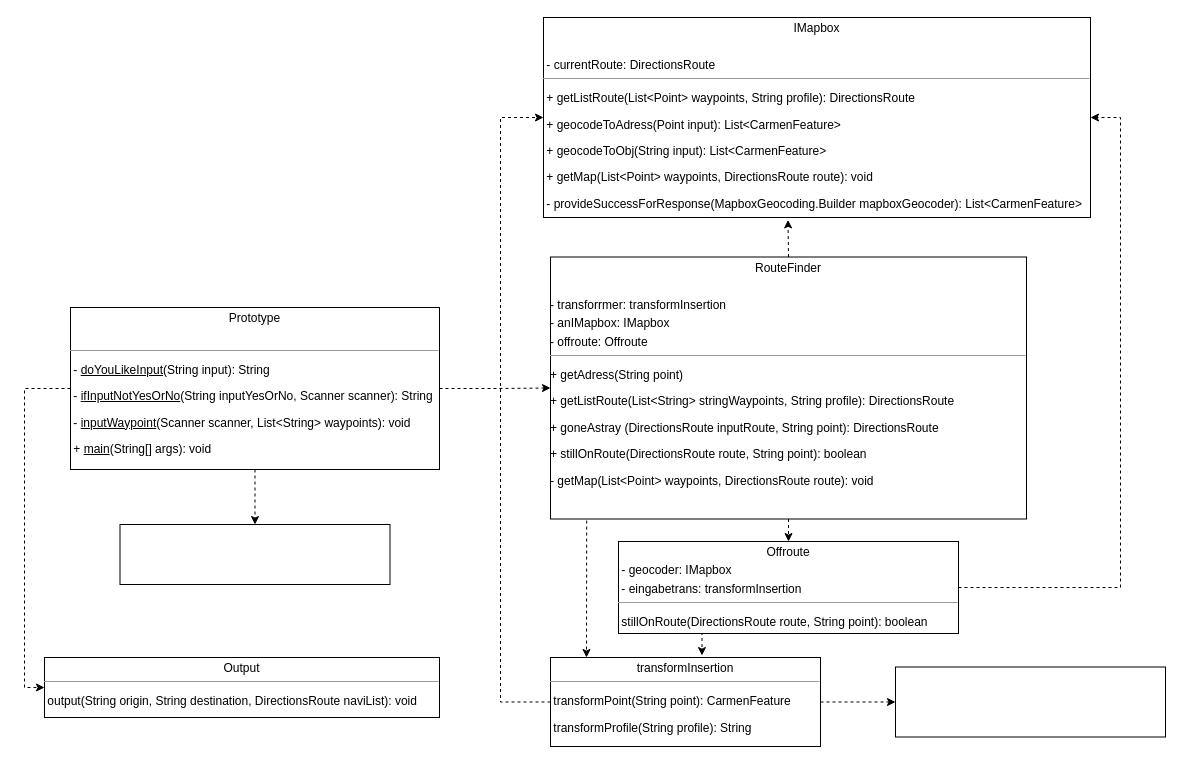
Image size: 1183x764. Some labels were removed from this diagram. Each missing label, with the centre of its shape:
"Map + showMap(): void" belongs at pixel 254 554.
"ProfileSwitcher switchProfile (String profile): String" belongs at pixel 1030 701.
